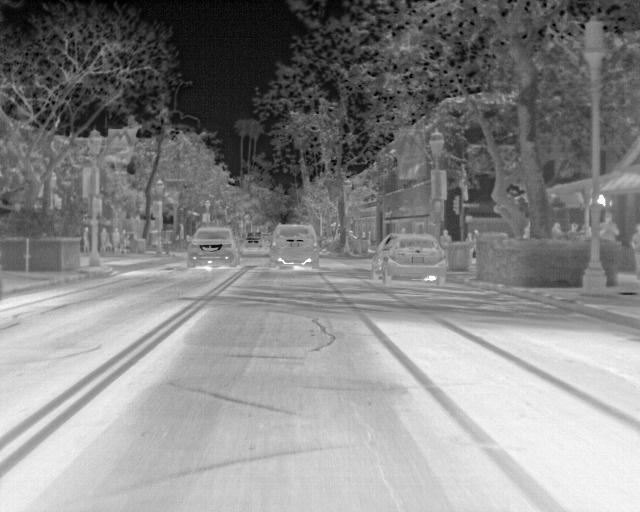bicycle: (367, 230, 451, 285), (268, 222, 322, 271), (185, 226, 243, 269), (244, 228, 266, 248)
empty: (628, 221, 639, 280), (601, 212, 620, 240), (99, 225, 112, 257), (80, 223, 93, 253), (109, 224, 121, 256), (437, 227, 452, 251), (548, 221, 565, 241)
